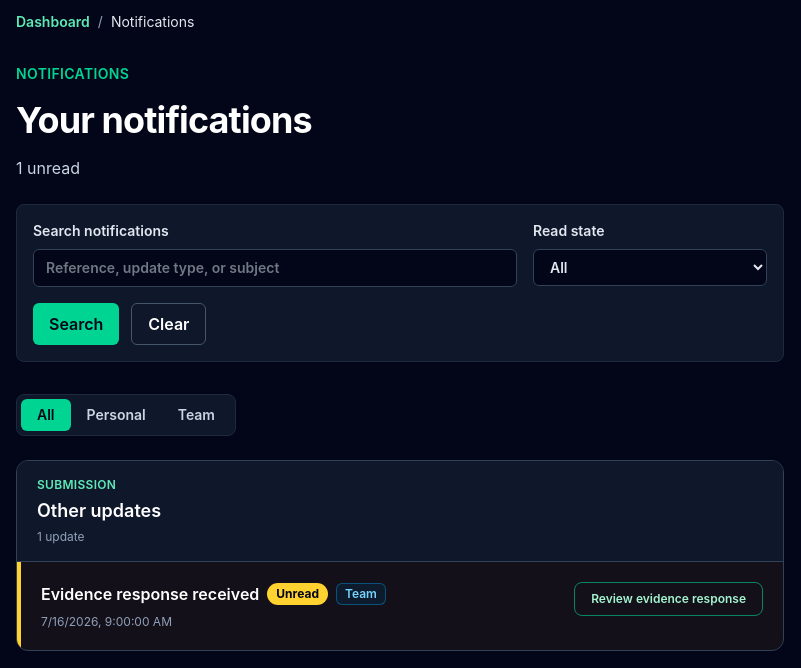
Scenario: NotificationsPage › keeps team-capable scope tabs visible when the selected server scope is empty
Expected: the heading "Evidence response received" is shown, [41,582,259,606]
Click the tab "Personal" at point(116, 415), box [70,399,162,431]
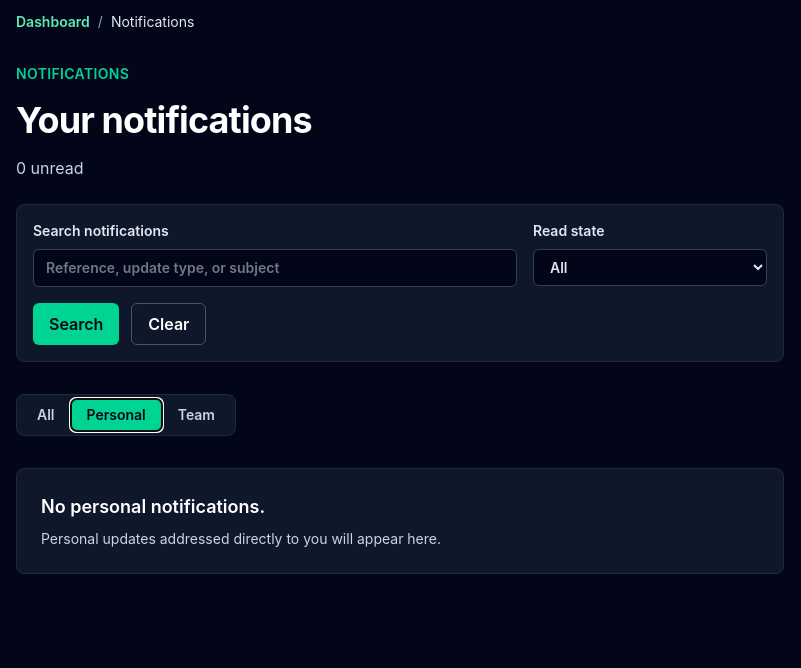
Expected: the tab "All" is shown, [21,399,70,431]
Expected: the heading "No personal notifications." is shown, [41,496,265,517]
Click the tab "Team" at point(196, 415), box [162,399,231,431]
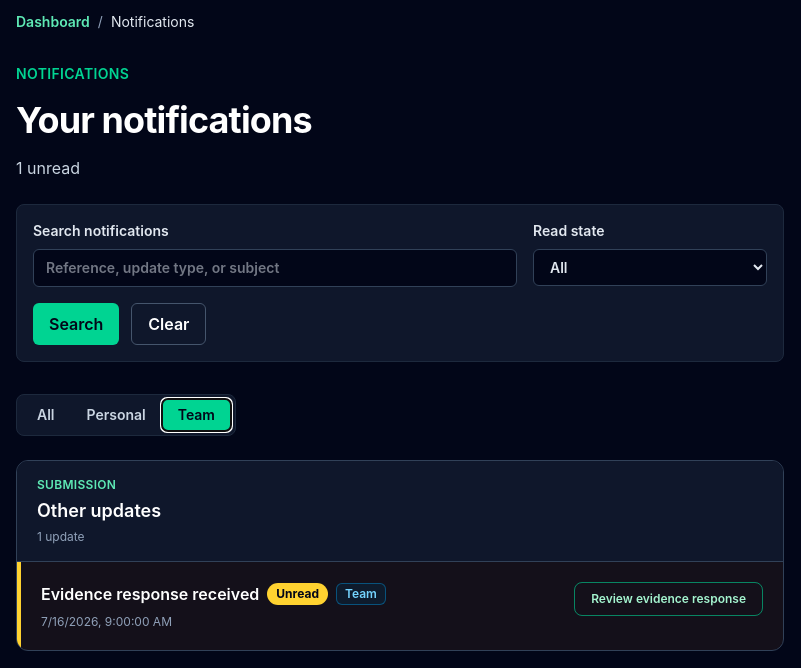
Expected: the heading "Evidence response received" is shown, [41,582,259,606]
